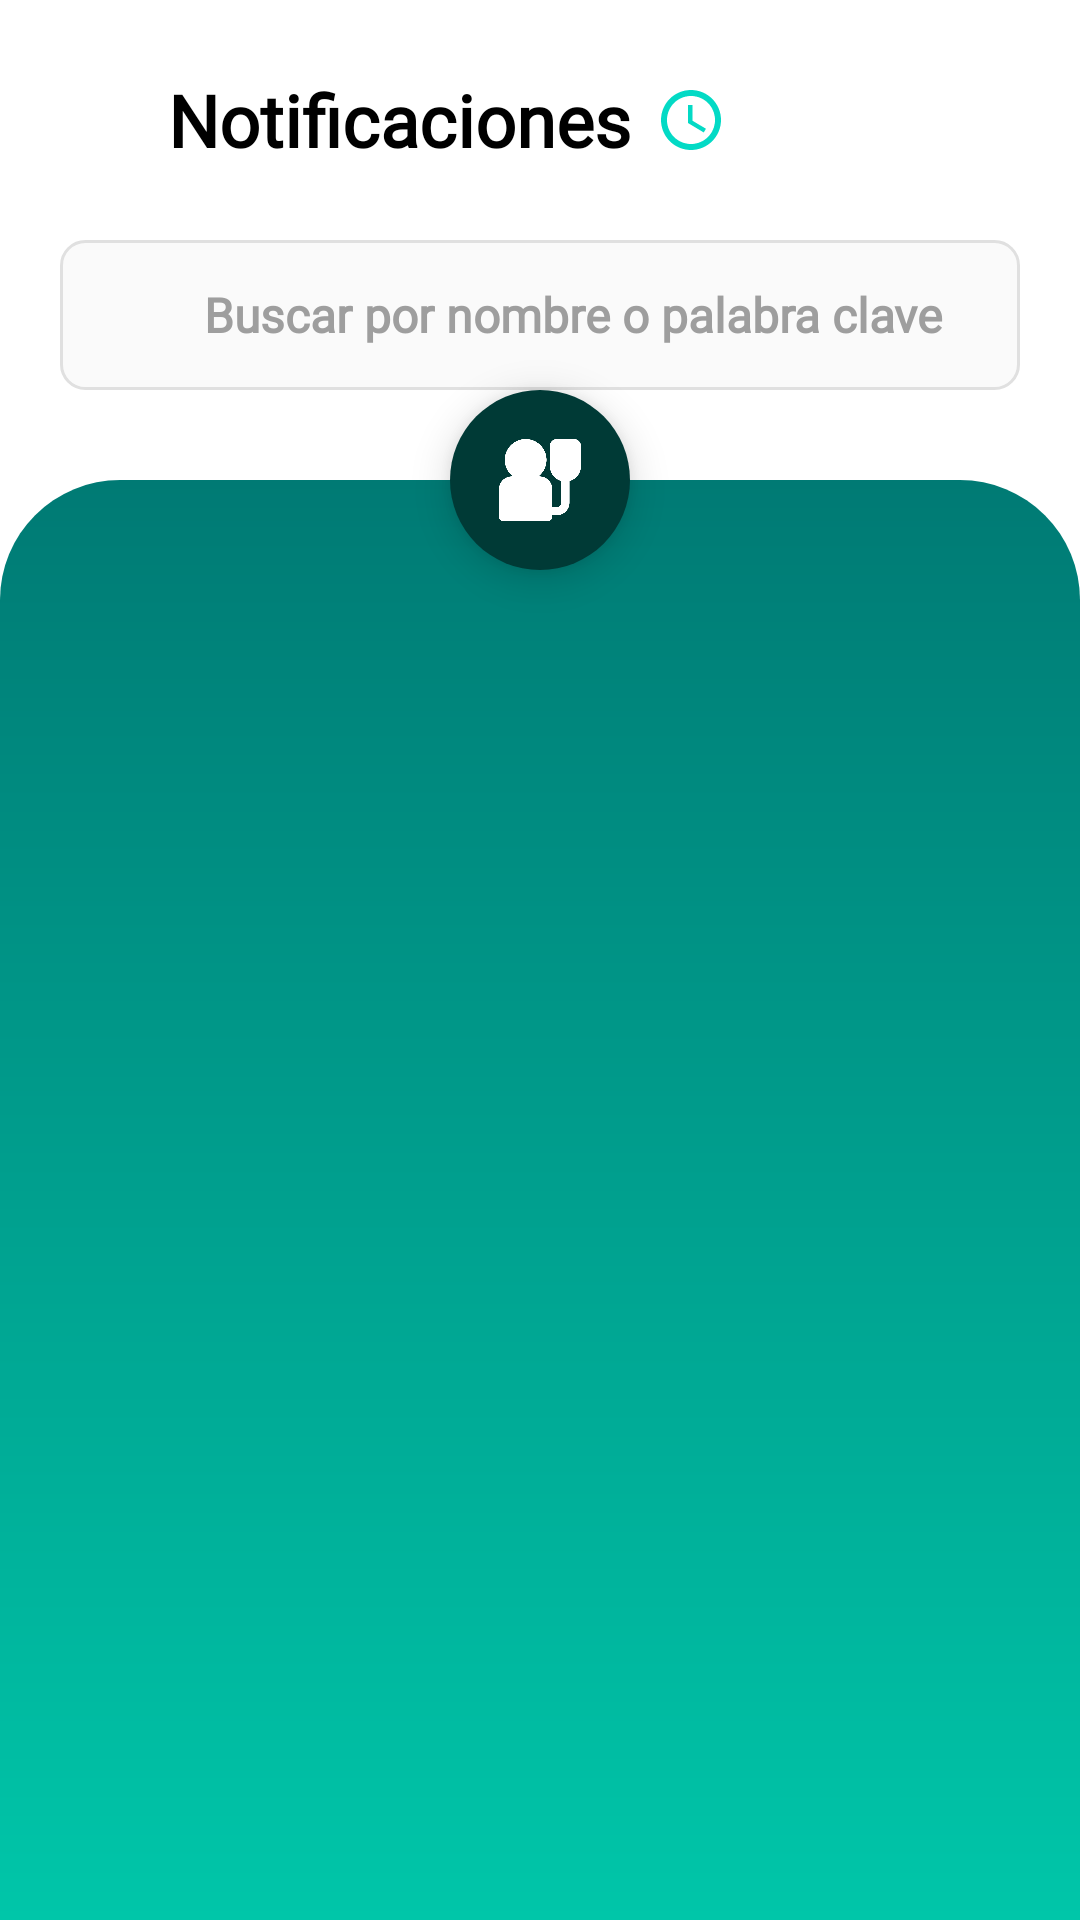

Screen size 1080px x 1920px. Icon name, then its center in pixels as (x=x, y=y):
patients: (x=540, y=480)
